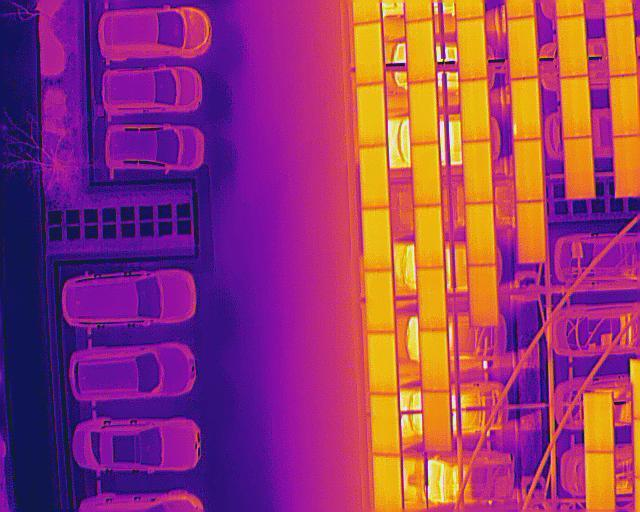Cell: (512, 79, 542, 140)
No-Anomaly: (564, 137, 595, 200), (370, 393, 401, 456), (606, 14, 637, 75), (469, 264, 499, 327), (368, 331, 398, 394), (363, 207, 392, 271), (515, 140, 545, 201), (415, 206, 444, 269), (562, 77, 592, 137), (355, 22, 384, 84), (418, 268, 447, 329), (373, 455, 404, 512), (458, 17, 486, 80), (412, 145, 441, 205), (357, 84, 386, 144), (585, 393, 614, 453), (420, 330, 448, 392), (360, 146, 388, 208), (509, 17, 537, 78), (407, 20, 435, 81), (517, 202, 545, 263), (410, 82, 438, 143), (367, 271, 395, 332), (424, 391, 452, 452), (468, 202, 495, 265), (587, 453, 616, 511), (465, 141, 492, 203), (461, 80, 489, 139), (559, 16, 587, 75), (612, 75, 638, 136)
